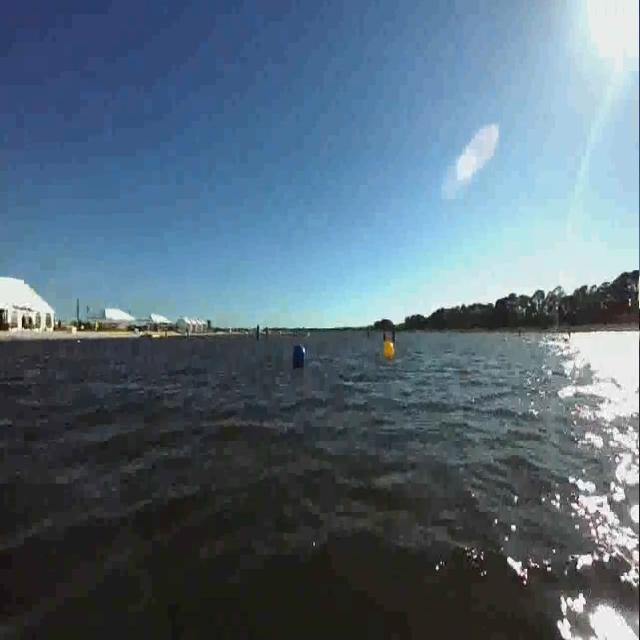blue-buoy: (292, 343, 305, 368)
yellow-buoy: (384, 339, 395, 361)
